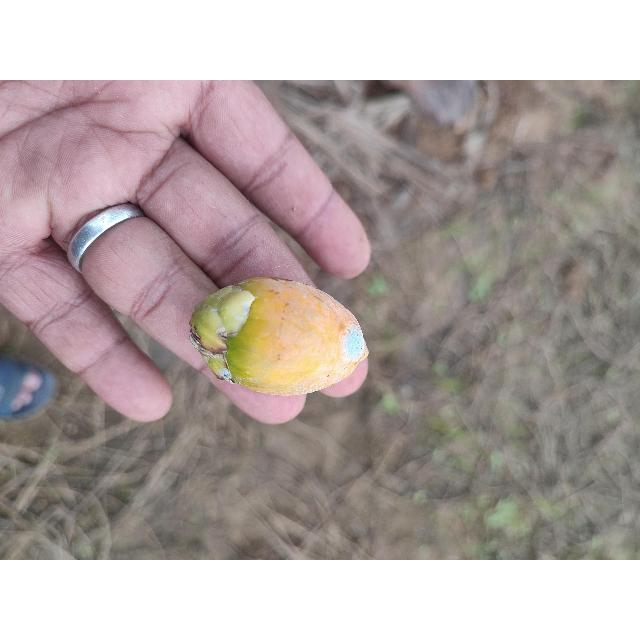good: (191, 282, 369, 398)
